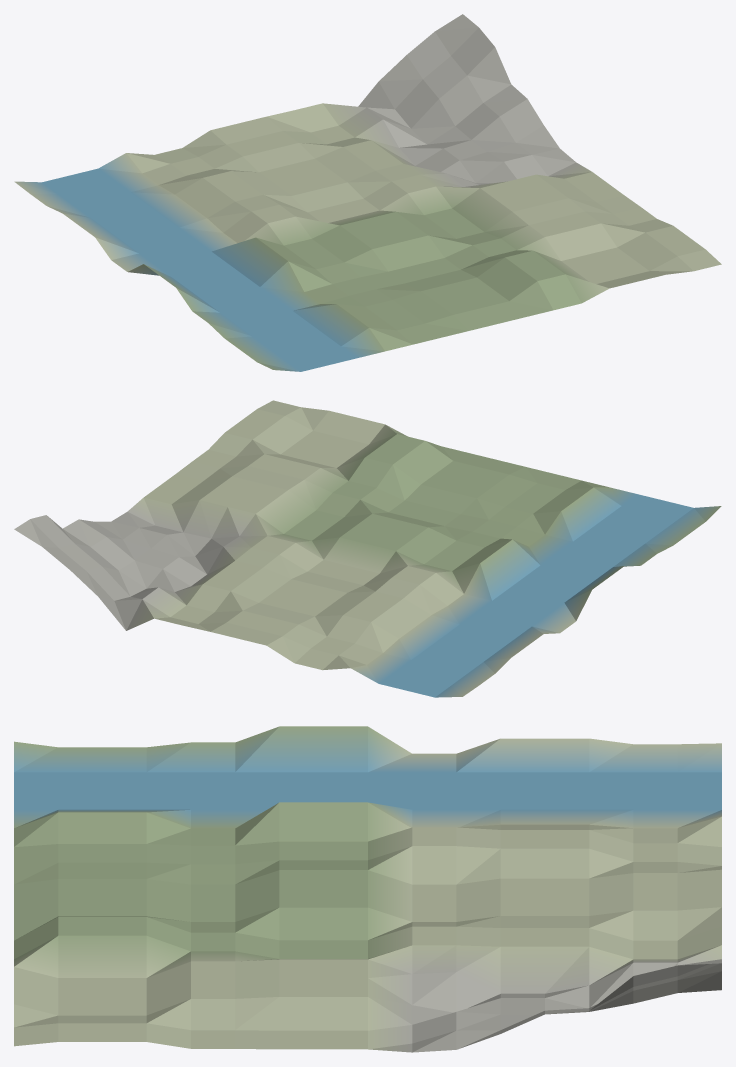
3 renders of one model, top to bottom at view 1: azimuth 30°, elevation 25°; view 2: azimuth 150°, elevation 25°; view 3: azimuth 270°, elevation 25°, orthographic. The views are drawn at different scales.
Size of the model in its own units: 32 by 5.28 by 32.
